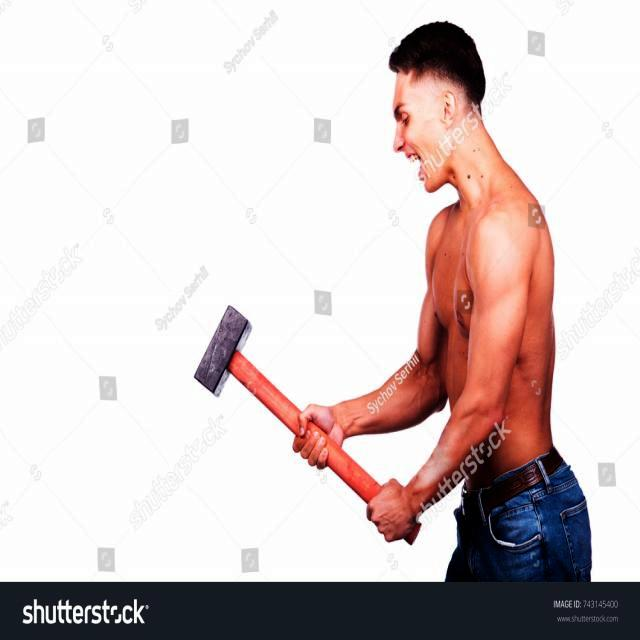hammer: (191, 302, 429, 555)
